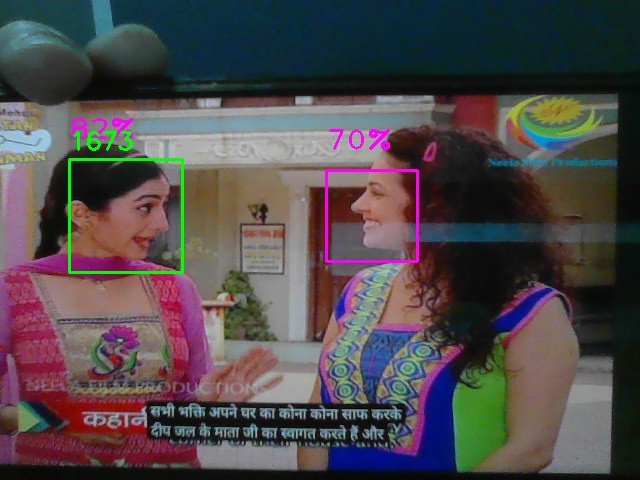fake: (69, 159, 183, 273)
